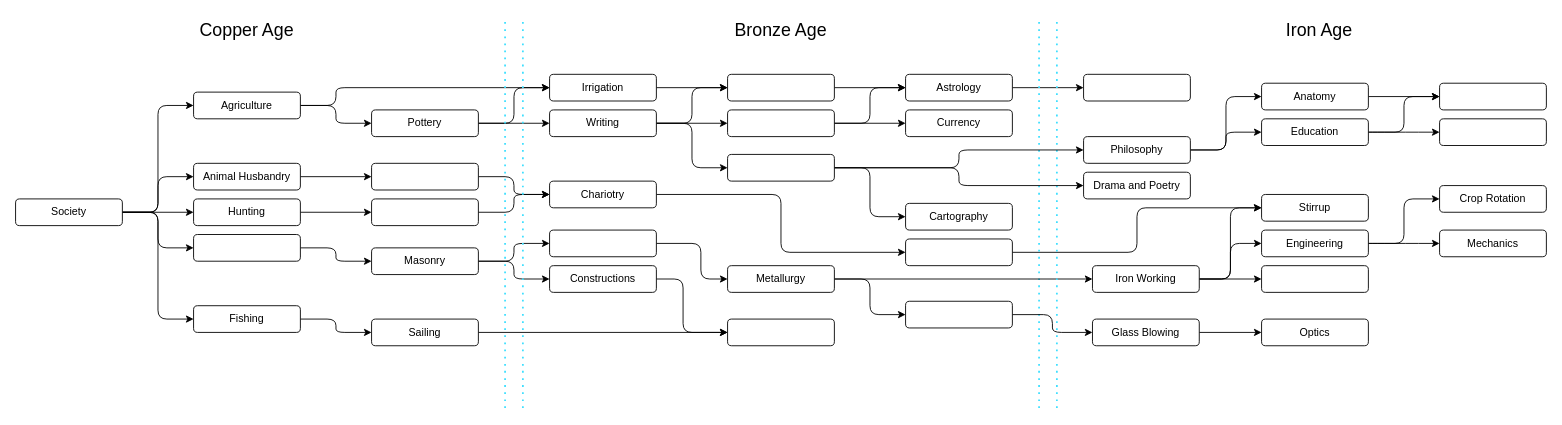
The diagram is 1562 pixels wide and 425 high, and some of its shapes have lost their labels. Each missing label, with the box of its shape:
Alchemy: (1439, 118, 1546, 146)
Archery: (371, 198, 478, 226)
Astronomy: (1083, 73, 1190, 101)
Bronze Working: (549, 229, 656, 257)
Calendar: (727, 73, 834, 101)
Copper Working: (193, 234, 300, 261)
Horseback Riding: (905, 238, 1012, 266)
Jewelry: (905, 300, 1012, 328)
Literature: (727, 154, 834, 181)
Mathematics: (727, 109, 834, 137)
Medicine: (1439, 82, 1546, 110)
Metal Armor: (1261, 265, 1368, 292)
Ship Building: (727, 318, 834, 346)
Wheel: (371, 162, 478, 190)
